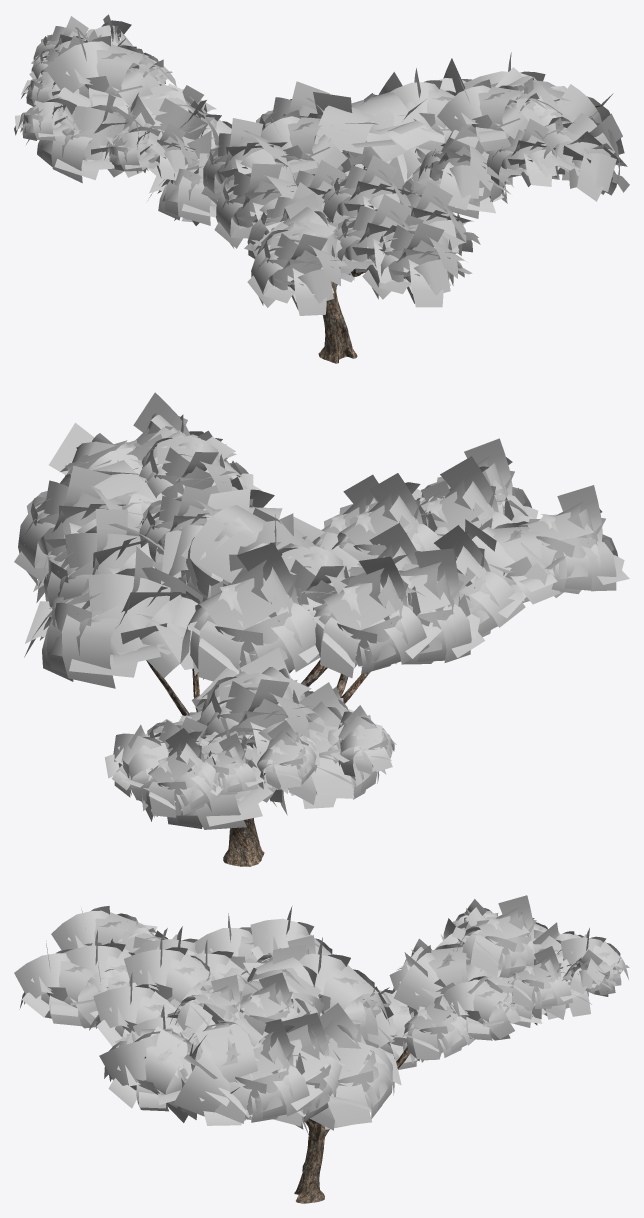
The model's file is AcaciaTree9K.fbx.
3 renders of one model, top to bottom at view 1: azimuth 30°, elevation 25°; view 2: azimuth 150°, elevation 25°; view 3: azimuth 270°, elevation 25°, orthographic. The views are drawn at different scales.
Visible parts, largest first — view 1: AcaianTree11k1_group2_pPlane175; view 2: AcaianTree11k1_group2_pPlane175; view 3: AcaianTree11k1_group2_pPlane175.
Part boxes in pixels (x1=…): AcaianTree11k1_group2_pPlane175: x1=14, y1=14, x2=629, y2=363; AcaianTree11k1_group2_pPlane175: x1=14, y1=392, x2=629, y2=866; AcaianTree11k1_group2_pPlane175: x1=14, y1=895, x2=629, y2=1203.
Size of the model in its own units: 38.05 by 23.79 by 51.67.
